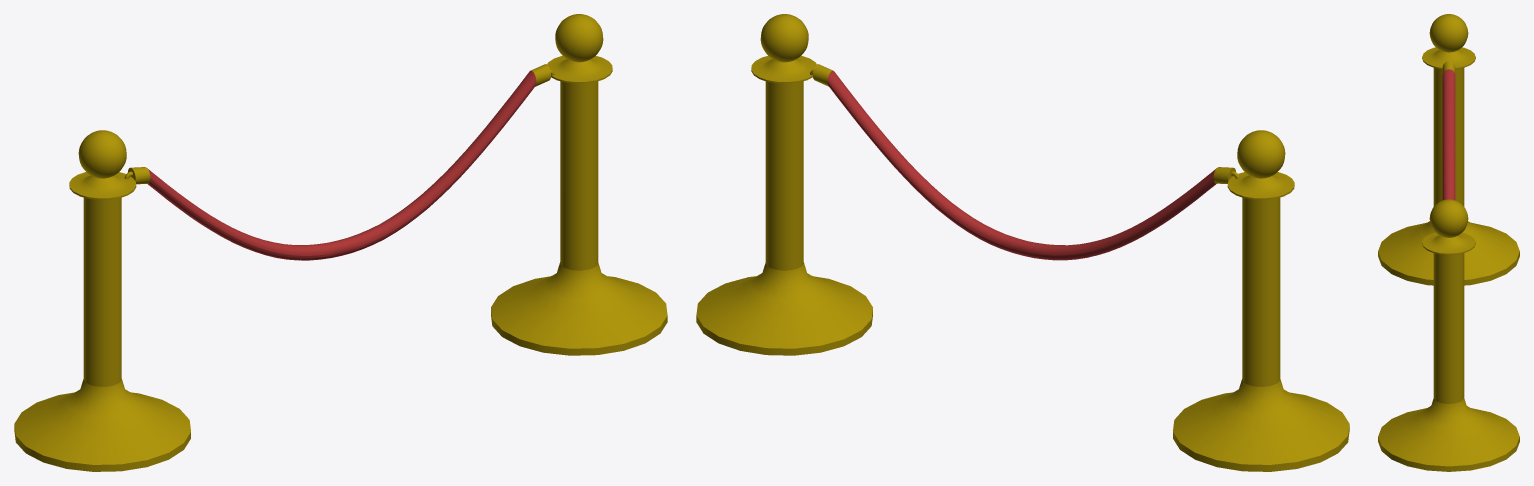
File: stanchion.fbx
3 views of the same model, side by side, from view 1: azimuth 30°, elevation 25°; view 2: azimuth 150°, elevation 25°; view 3: azimuth 270°, elevation 25° (orthographic). The views are drawn at different scales.
Parts seen in each view (by area): view 1: pCylinder1, pCylinder2, pCylinder3, pSphere2, pSphere1; view 2: pCylinder1, pCylinder2, pCylinder3, pSphere2, pSphere1; view 3: pCylinder2, pCylinder1, pCylinder3, pSphere1, pSphere2.
Boxes of the visible parts, x1,y1,x2,y2 form: pCylinder1: (14, 172, 190, 471); pCylinder2: (491, 55, 667, 355); pCylinder3: (127, 64, 550, 260); pSphere2: (555, 14, 603, 62); pSphere1: (78, 130, 126, 178); pCylinder1: (1173, 172, 1349, 471); pCylinder2: (696, 55, 872, 355); pCylinder3: (813, 64, 1235, 260); pSphere2: (760, 14, 808, 62); pSphere1: (1237, 130, 1285, 178); pCylinder2: (1378, 232, 1519, 471); pCylinder1: (1378, 47, 1519, 285); pCylinder3: (1442, 61, 1455, 200); pSphere1: (1429, 14, 1468, 52); pSphere2: (1429, 199, 1468, 237).
Bounding box in the file's own units: 264 × 121 × 64.35.
